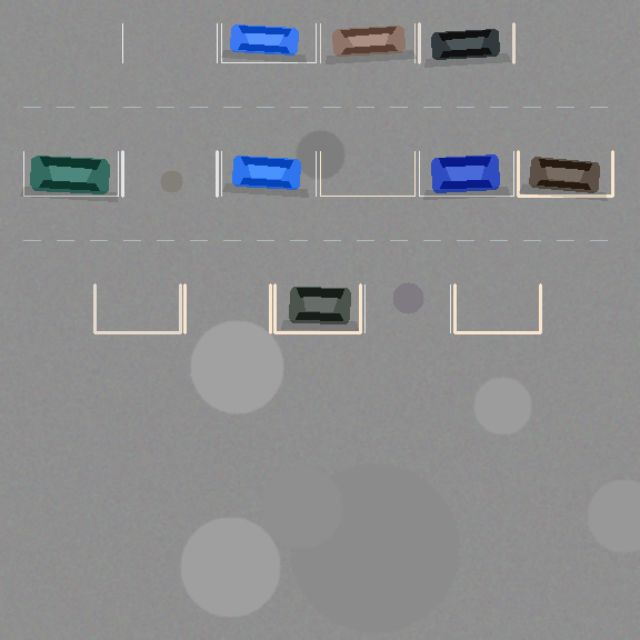space-empty: (122, 151, 217, 196), (320, 151, 414, 196), (94, 284, 180, 332), (184, 284, 270, 332), (364, 284, 450, 332), (454, 284, 540, 332), (122, 23, 217, 62)
space-occupied: (23, 151, 118, 196), (221, 151, 316, 196), (419, 151, 513, 196), (518, 151, 612, 196), (274, 284, 360, 332), (221, 23, 316, 62), (320, 23, 414, 62), (419, 23, 513, 62)
